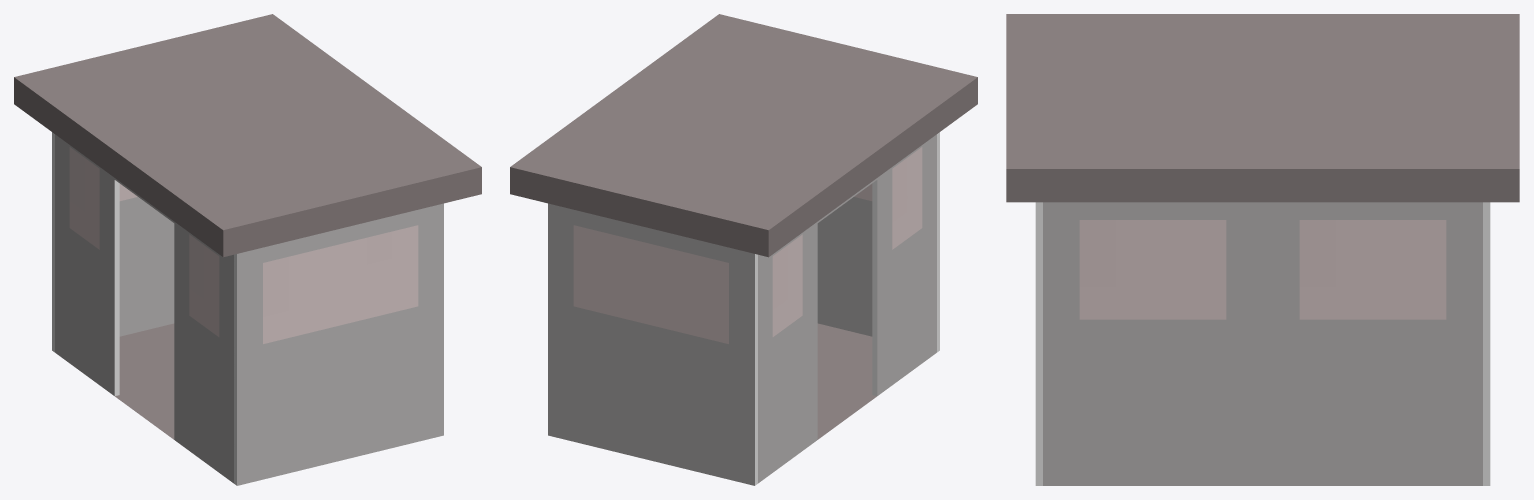
File: security_post.gltf
The picture shows the model from 3 angles, left to right: view 1: azimuth 30°, elevation 25°; view 2: azimuth 150°, elevation 25°; view 3: azimuth 270°, elevation 25°; orthographic projection. The views are drawn at different scales.
Visible parts, largest first — view 1: roof, wall-part1 (×2), window (×3), wall-part4 (×3), wall-part3 (×2), floor, wall-part5 (×2), wall-part2, wall-part6; view 2: roof, wall-part1 (×2), window (×3), wall-part4 (×3), wall-part3 (×2), floor, wall-part5 (×2), wall-part2, wall-part6; view 3: roof, wall-part2 (×2), window (×2), wall-part4 (×4), wall-part5, wall-part3, wall-part1 (×2).
Boxes of the visible parts, x1=… form: roof: x1=14, y1=14, x2=481, y2=257; wall-part1 (×2): x1=52, y1=197, x2=443, y2=485; window (×3): x1=69, y1=147, x2=418, y2=343; wall-part4 (×3): x1=99, y1=169, x2=262, y2=483; wall-part3 (×2): x1=55, y1=210, x2=418, y2=396; floor: x1=115, y1=323, x2=174, y2=439; wall-part5 (×2): x1=174, y1=223, x2=233, y2=347; wall-part2: x1=418, y1=203, x2=443, y2=306; wall-part6: x1=55, y1=134, x2=69, y2=227; roof: x1=510, y1=14, x2=977, y2=257; wall-part1 (×2): x1=548, y1=197, x2=939, y2=485; window (×3): x1=573, y1=147, x2=922, y2=343; wall-part4 (×3): x1=548, y1=203, x2=936, y2=396; wall-part3 (×2): x1=573, y1=210, x2=817, y2=483; floor: x1=817, y1=323, x2=876, y2=439; wall-part5 (×2): x1=872, y1=134, x2=936, y2=260; wall-part2: x1=729, y1=247, x2=757, y2=350; wall-part6: x1=758, y1=254, x2=772, y2=347; roof: x1=1006, y1=14, x2=1519, y2=202; wall-part2 (×2): x1=1035, y1=202, x2=1482, y2=485; window (×2): x1=1079, y1=220, x2=1446, y2=319; wall-part4 (×4): x1=1079, y1=202, x2=1490, y2=319; wall-part5: x1=1043, y1=202, x2=1079, y2=319; wall-part3: x1=1226, y1=220, x2=1262, y2=319; wall-part1 (×2): x1=1035, y1=319, x2=1490, y2=485.
Size of the model in its own units: 0.625 by 0.625 by 0.875.
4 materials, 3 textured.
